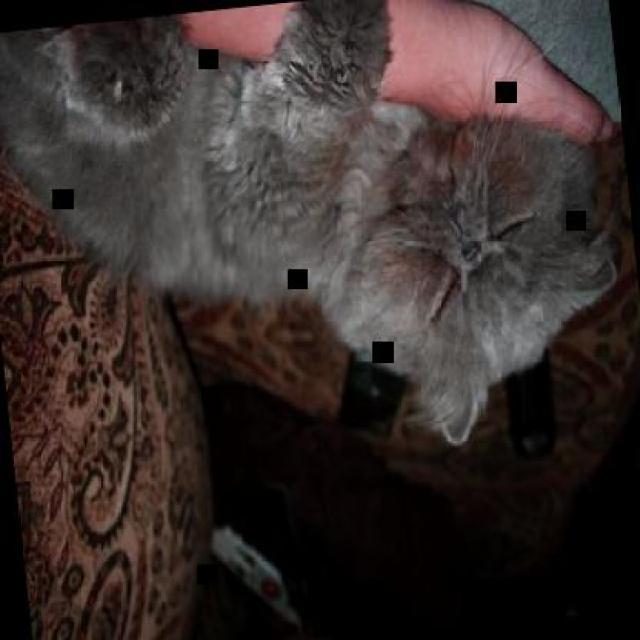cat: (0, 0, 634, 491)
